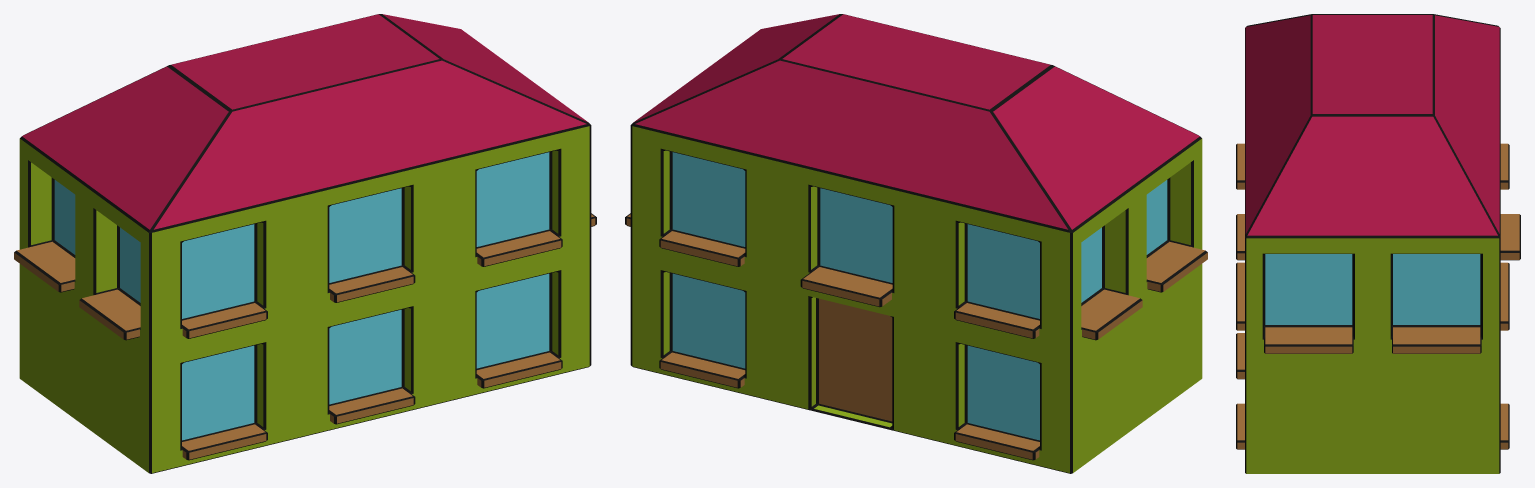
Rendered from BigHouse1.fbx.
3 views of the same model, side by side, from view 1: azimuth 30°, elevation 25°; view 2: azimuth 150°, elevation 25°; view 3: azimuth 270°, elevation 25° (orthographic). The views are drawn at different scales.
Visible parts, largest first — view 1: Cube.013; view 2: Cube.013; view 3: Cube.013.
Part boxes in pixels (<box>): Cube.013: <box>14,14,596,473</box>; Cube.013: <box>625,14,1207,473</box>; Cube.013: <box>1236,14,1520,473</box>.
Size of the model in its own units: 5.83 by 3.66 by 3.1.
